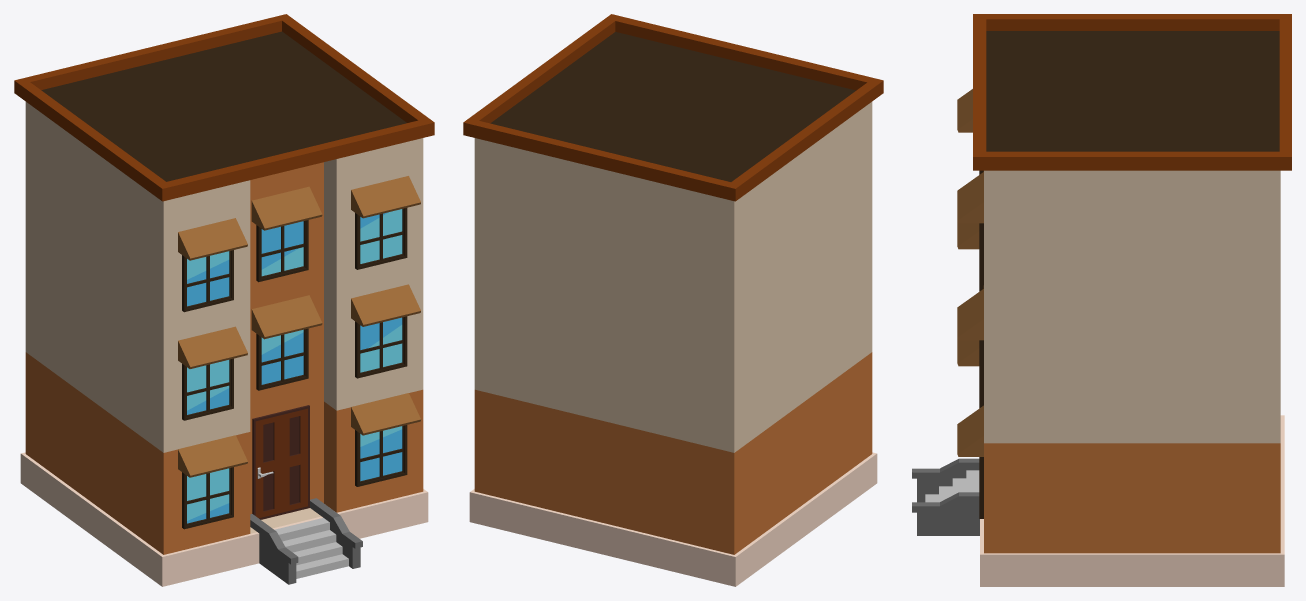
The model's file is Env_Motel_05.fbx.
3 renders of one model, left to right at view 1: azimuth 30°, elevation 25°; view 2: azimuth 150°, elevation 25°; view 3: azimuth 270°, elevation 25°, orthographic. The views are drawn at different scales.
Visible parts, largest first — view 1: Env_Motel_05; view 2: Env_Motel_05; view 3: Env_Motel_05.
Part boxes in pixels (<box>): Env_Motel_05: <box>14,14,434,586</box>; Env_Motel_05: <box>463,14,883,586</box>; Env_Motel_05: <box>912,14,1291,586</box>.
Size of the model in its own units: 593 by 835 by 665.
